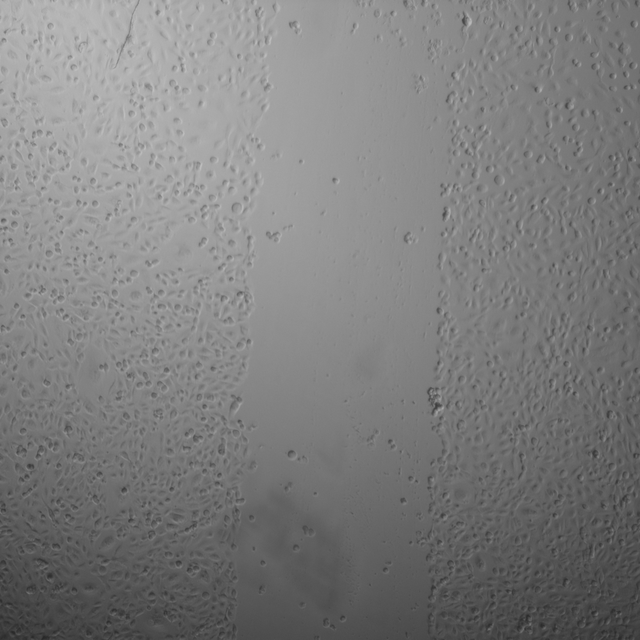wound: (231, 0, 463, 639)
